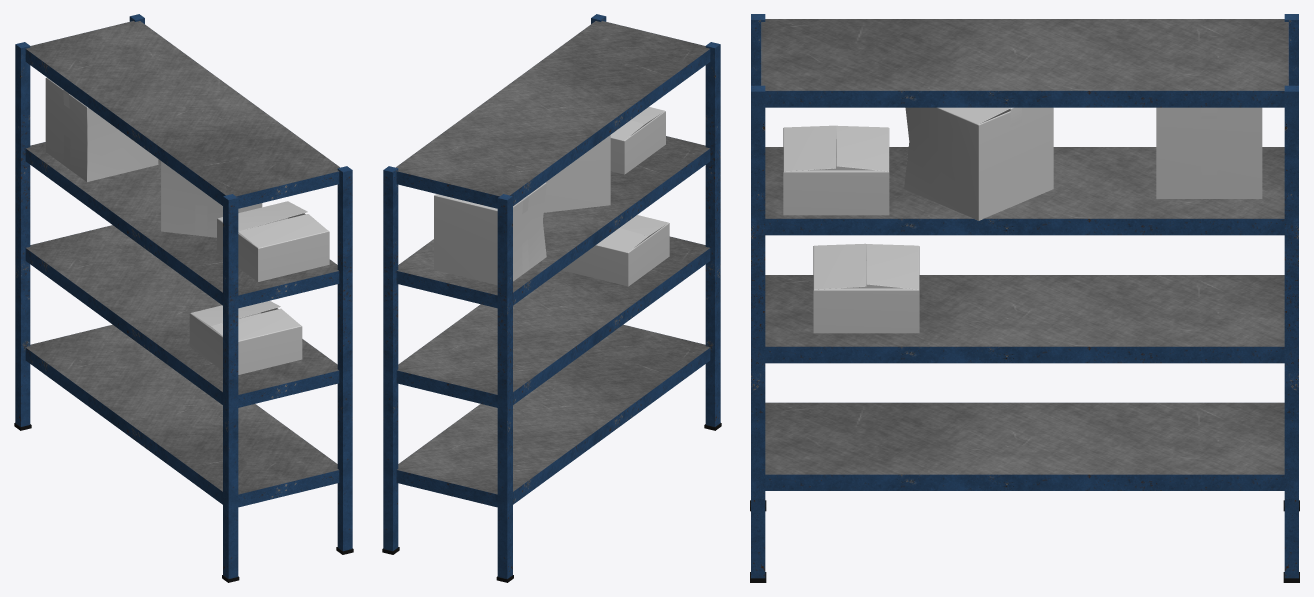
Rendered from CR_ShelfB1.fbx.
3 views of the same model, side by side, from view 1: azimuth 30°, elevation 25°; view 2: azimuth 150°, elevation 25°; view 3: azimuth 270°, elevation 25° (orthographic). The views are drawn at different scales.
Visible parts, largest first — view 1: ShelfB1, CardBoard_4, CardBoard_13, CardBoard_3, CardBoard_14; view 2: ShelfB1, CardBoard_4, CardBoard_3, CardBoard_14, CardBoard_13; view 3: ShelfB1, CardBoard_14, CardBoard_4, CardBoard_13, CardBoard_3.
Boxes of the visible parts, <box> form: ShelfB1: <box>14,14,353,582</box>; CardBoard_4: <box>45,77,158,181</box>; CardBoard_13: <box>217,201,329,281</box>; CardBoard_3: <box>189,300,302,374</box>; CardBoard_14: <box>161,161,262,237</box>; ShelfB1: <box>382,14,721,582</box>; CardBoard_4: <box>434,182,546,285</box>; CardBoard_3: <box>562,215,669,286</box>; CardBoard_14: <box>543,135,610,212</box>; CardBoard_13: <box>610,107,665,174</box>; ShelfB1: <box>750,14,1299,582</box>; CardBoard_14: <box>904,107,1053,220</box>; CardBoard_4: <box>1156,107,1262,198</box>; CardBoard_13: <box>783,125,889,215</box>; CardBoard_3: <box>813,243,919,333</box>.
Bounding box in the file's own units: 65.65 × 191 × 194.
